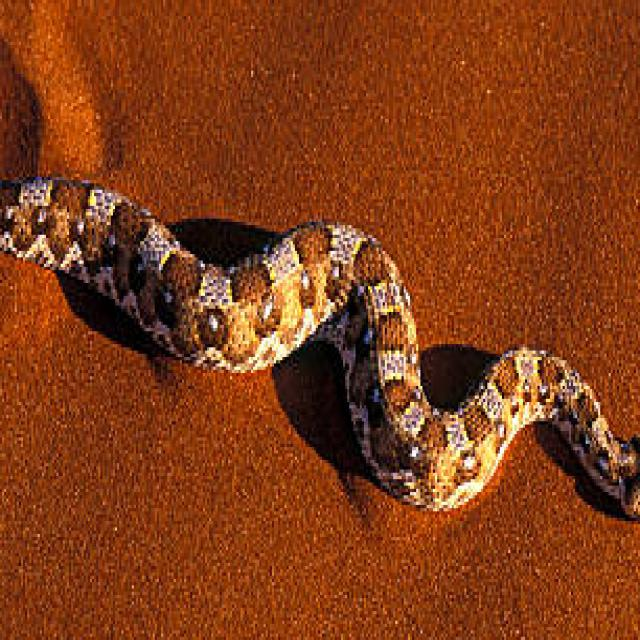Snake: (0, 74, 640, 527)
